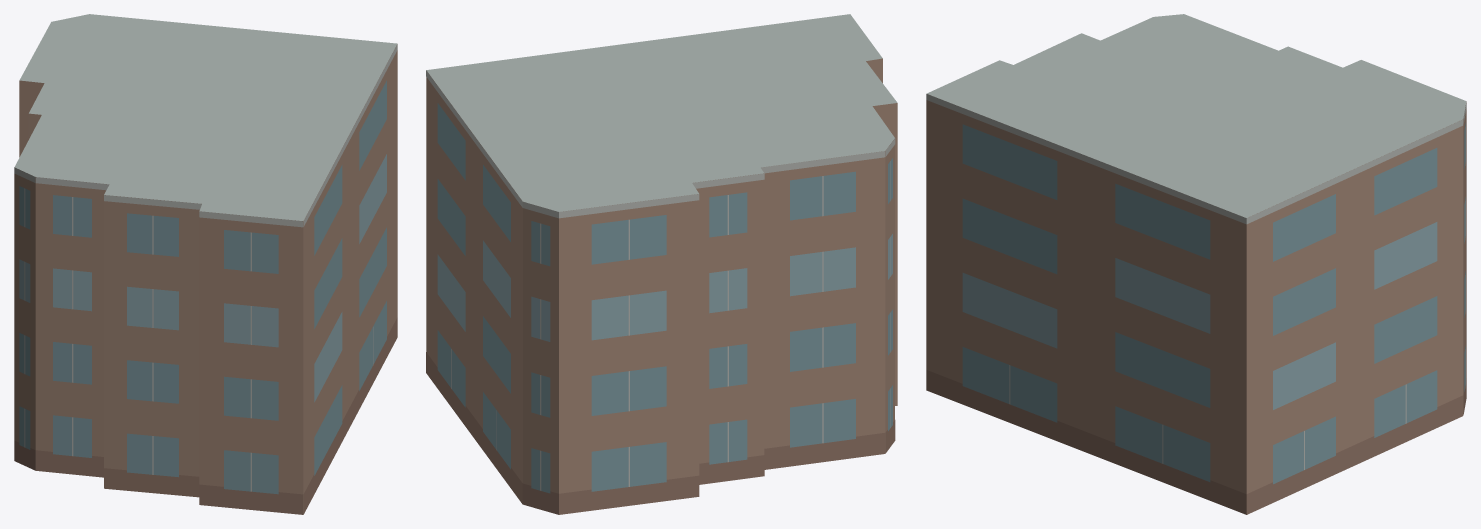
The model's file is survey-upis-33028863.glb.
The picture shows the model from 3 angles, left to right: view 1: azimuth 30°, elevation 25°; view 2: azimuth 150°, elevation 25°; view 3: azimuth 270°, elevation 25°; orthographic projection. The views are drawn at different scales.
Parts seen in each view (by area): view 1: survey-upis-33028863.tmp; view 2: survey-upis-33028863.tmp; view 3: survey-upis-33028863.tmp.
Boxes of the visible parts, left/top/right/bottom form: survey-upis-33028863.tmp: left=14, top=14, right=397, bottom=514; survey-upis-33028863.tmp: left=426, top=14, right=897, bottom=514; survey-upis-33028863.tmp: left=926, top=14, right=1466, bottom=514.
Size of the model in its own units: 17.05 by 11.55 by 19.06.
